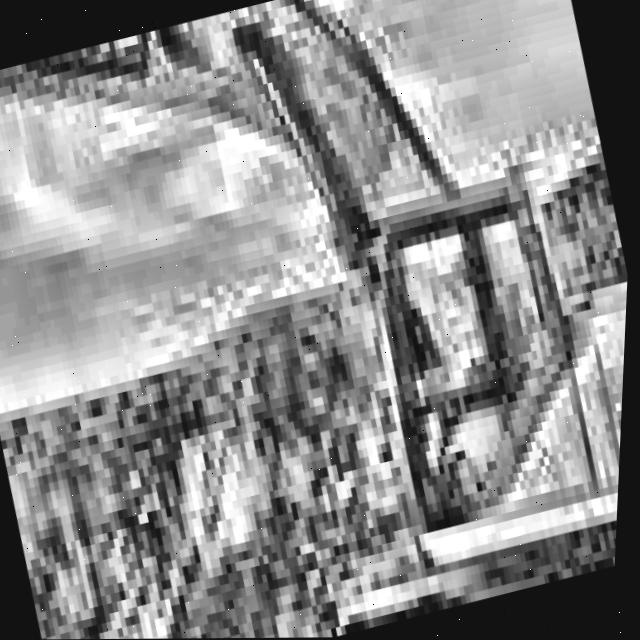excavator: (238, 126, 635, 636)
